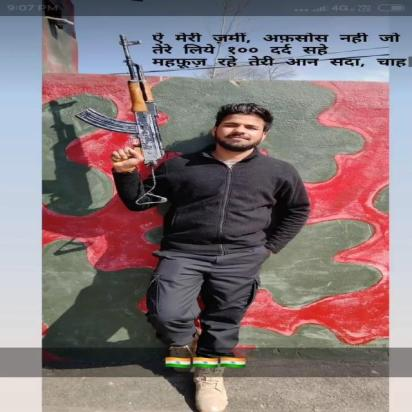Gun: (74, 34, 168, 205)
